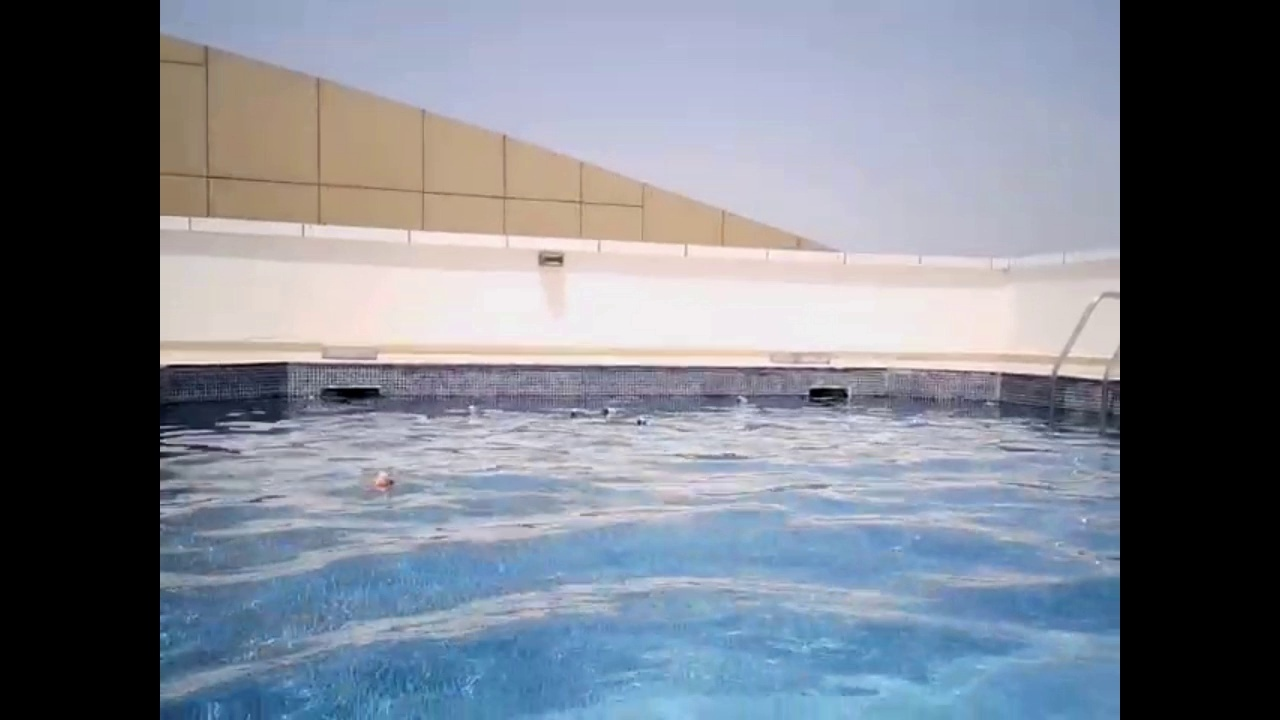debris: (366, 467, 399, 493), (567, 403, 594, 424), (730, 389, 751, 408), (630, 413, 654, 429), (600, 402, 622, 418)
